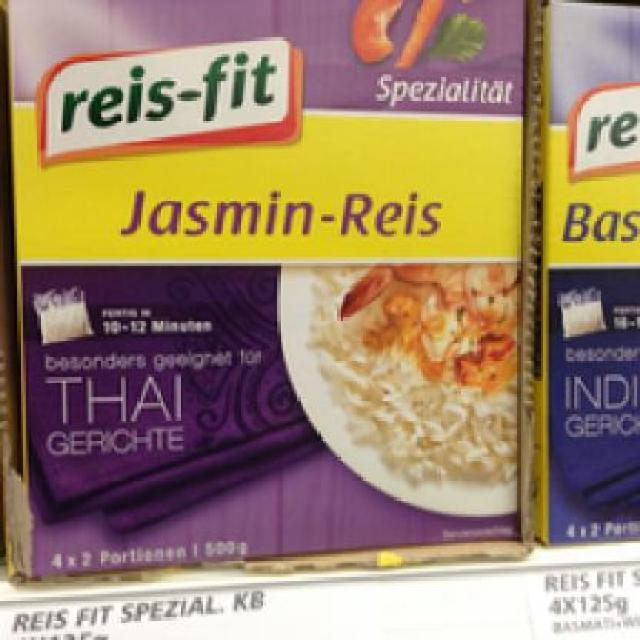Rice: (6, 0, 526, 577)
